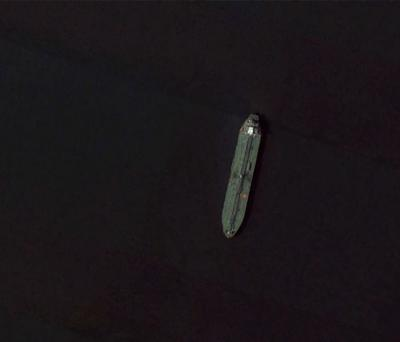Ships: (215, 100, 263, 272)
